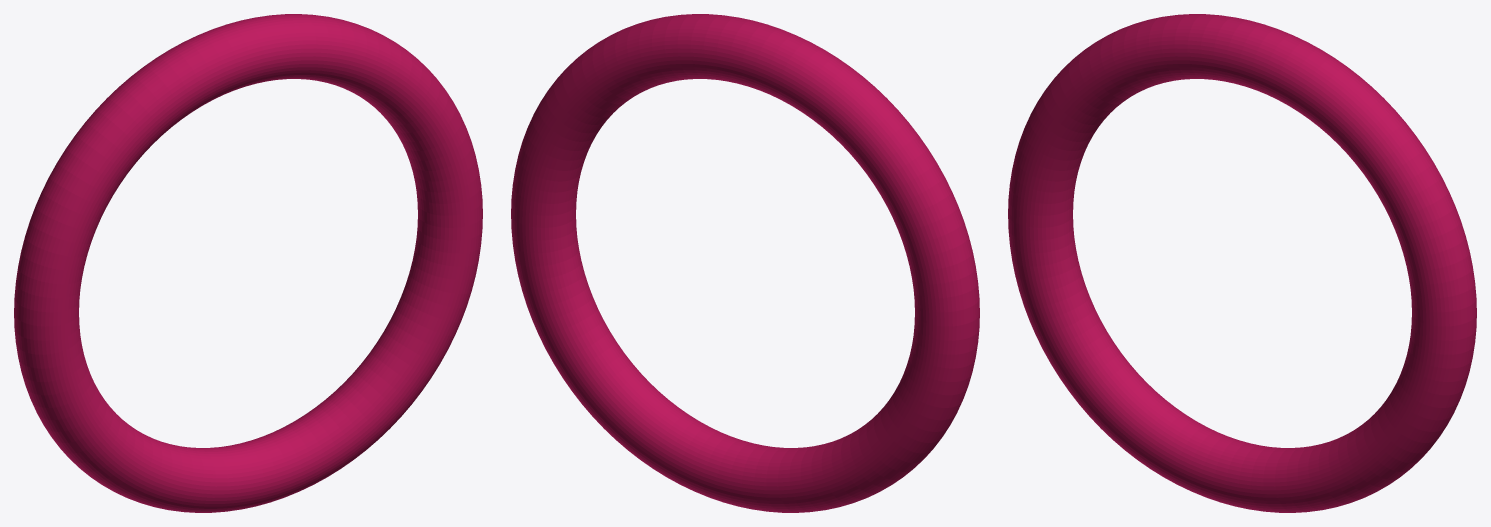
3 views of the same model, side by side, from view 1: azimuth 30°, elevation 25°; view 2: azimuth 150°, elevation 25°; view 3: azimuth 330°, elevation 25° (orthographic).
Visible parts, largest first — view 1: world; view 2: world; view 3: world.
Part boxes in pixels (x1,y1,x2,y2): world: (14, 14, 482, 512); world: (511, 14, 979, 512); world: (1008, 14, 1476, 512).
Bounding box in the file's own units: 25.07 × 25.07 × 3.06.
